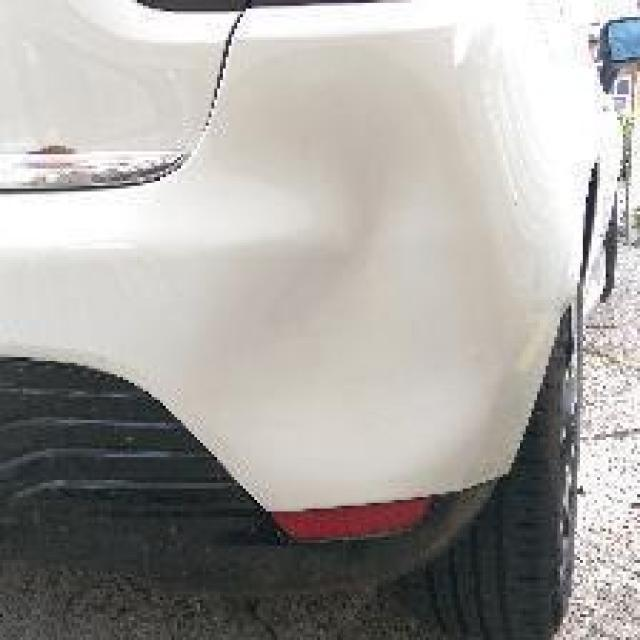damaged: (194, 42, 512, 498), (11, 143, 203, 194)
